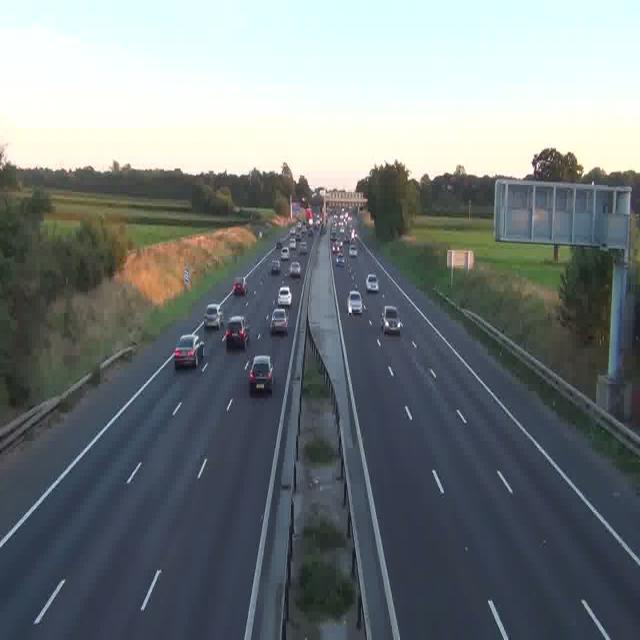car: (174, 334, 206, 369), (248, 354, 274, 393), (224, 316, 249, 350), (382, 306, 402, 333), (270, 306, 289, 333), (204, 305, 222, 331), (348, 289, 363, 314), (276, 287, 292, 309), (232, 277, 248, 296), (366, 275, 378, 294), (289, 262, 301, 278), (270, 258, 281, 274), (336, 250, 346, 266), (280, 248, 290, 261), (350, 245, 358, 258), (333, 244, 341, 256), (305, 228, 312, 241), (299, 243, 307, 254)
truck: (304, 207, 312, 224)
